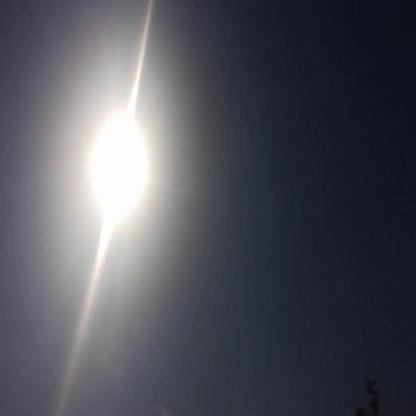other: (86, 102, 146, 233)
